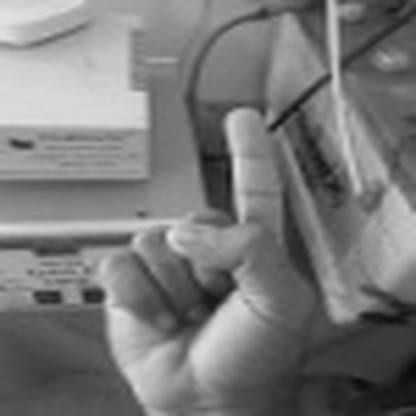d: (97, 102, 301, 416)
